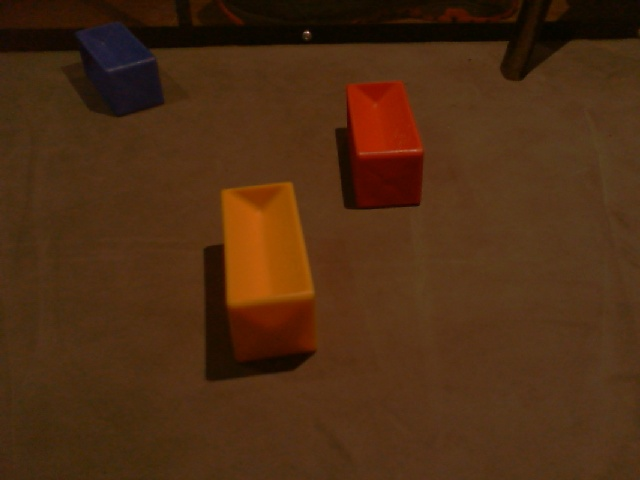BlueSample: (74, 22, 166, 118)
RedSample: (343, 79, 425, 212)
YellowSample: (217, 180, 321, 364)
